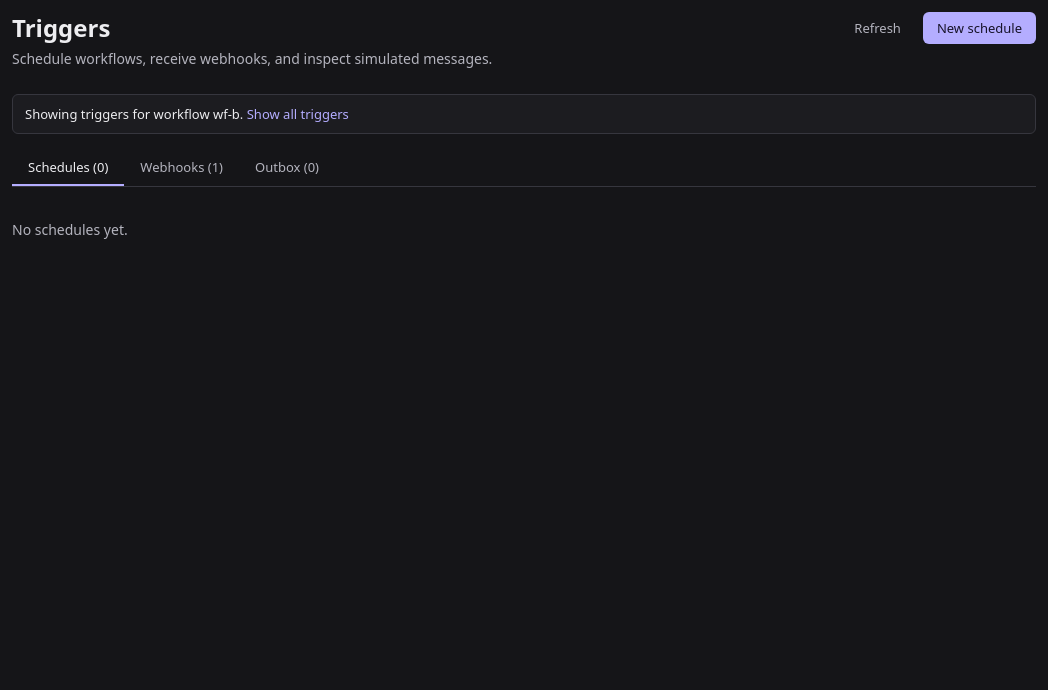
Scenario: B39 review: preselected workflow › opened for one workflow, the signing help and test target default to that workflow's webhook
This screenshot has width=1048, height=690.
Click the tab with test id "tab-webhooks" at (182, 168), box x1=124 y1=150 x2=239 y2=186
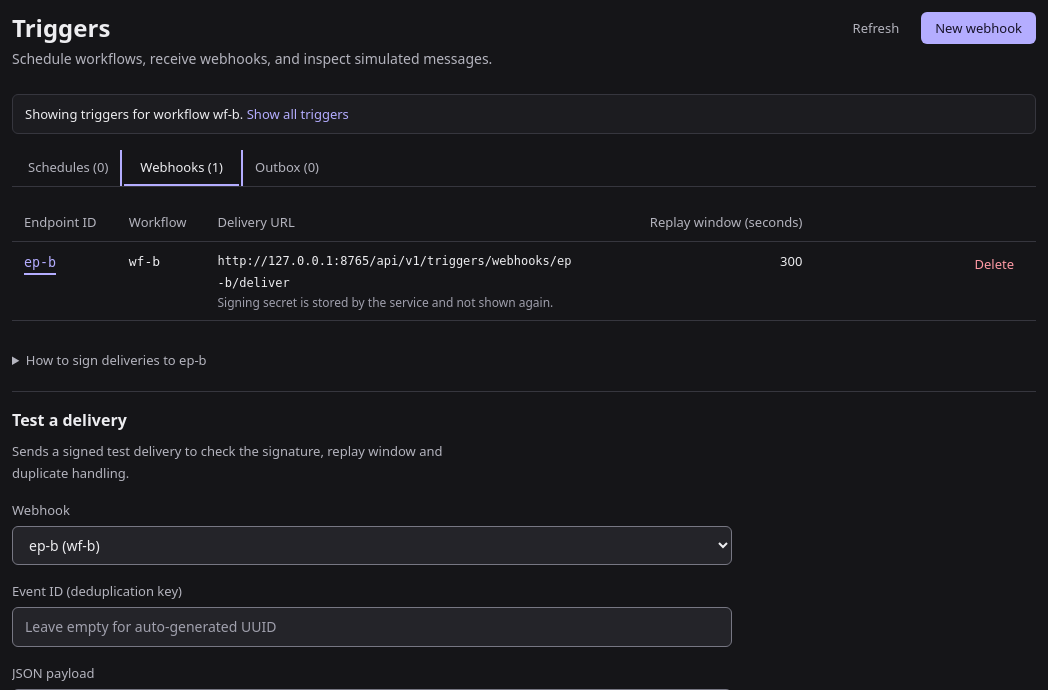
Result: the row with test id "webhook-item-ep-b" is shown at x1=12 y1=242 x2=1036 y2=320
Result: the dropdown with test id "select-test-webhook" shows "ep-b (wf-b)" at x1=12 y1=526 x2=732 y2=565
Result: the element with test id "webhook-signing-help" shows "ep-b" at x1=26 y1=351 x2=207 y2=369
